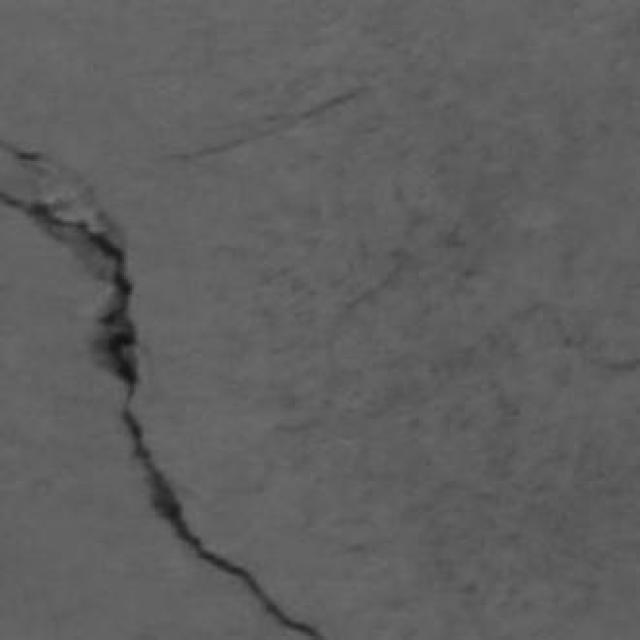crack: (0, 181, 323, 639), (165, 86, 370, 160)
